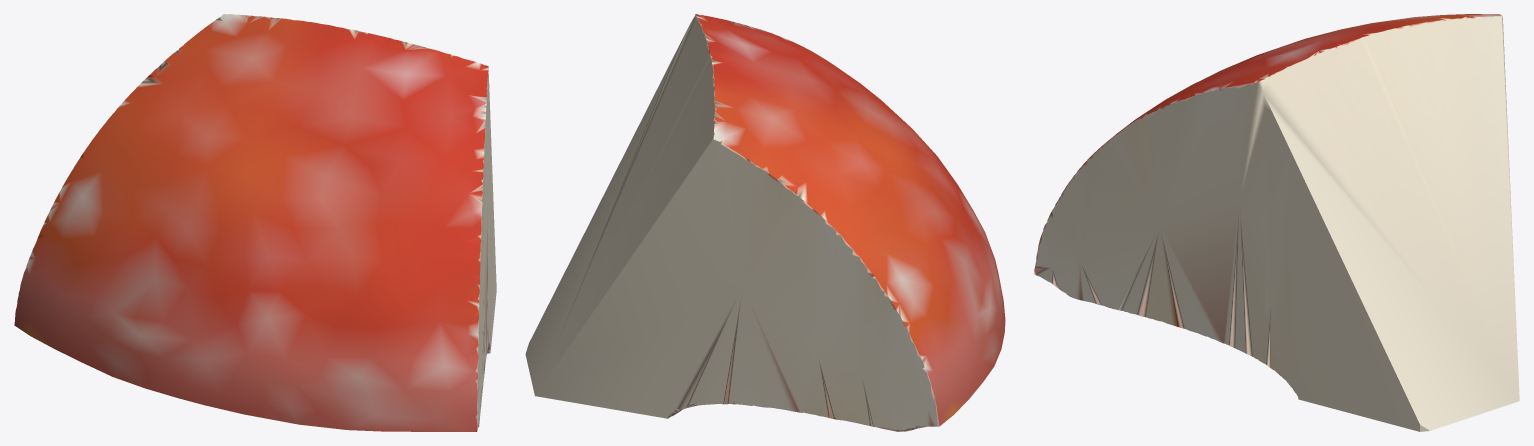
File: amanita-scout-cap2.glb
3 renders of one model, left to right at view 1: azimuth 30°, elevation 25°; view 2: azimuth 150°, elevation 25°; view 3: azimuth 270°, elevation 25°, orthographic. The views are drawn at different scales.
Visible parts, largest first — view 1: body; view 2: body; view 3: body.
Part boxes in pixels (box(x1,y1,x2,y2)): body: box(14, 14, 496, 431); body: box(525, 14, 1005, 431); body: box(1034, 14, 1519, 431).
Size of the model in its own units: 0.6685 by 0.4514 by 0.6244.
